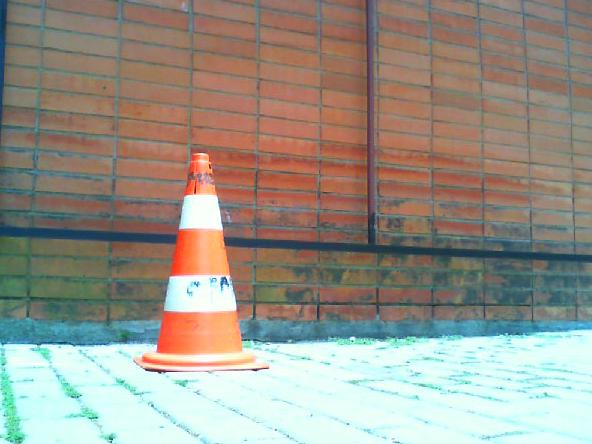0 cone: (134, 153, 269, 372)
